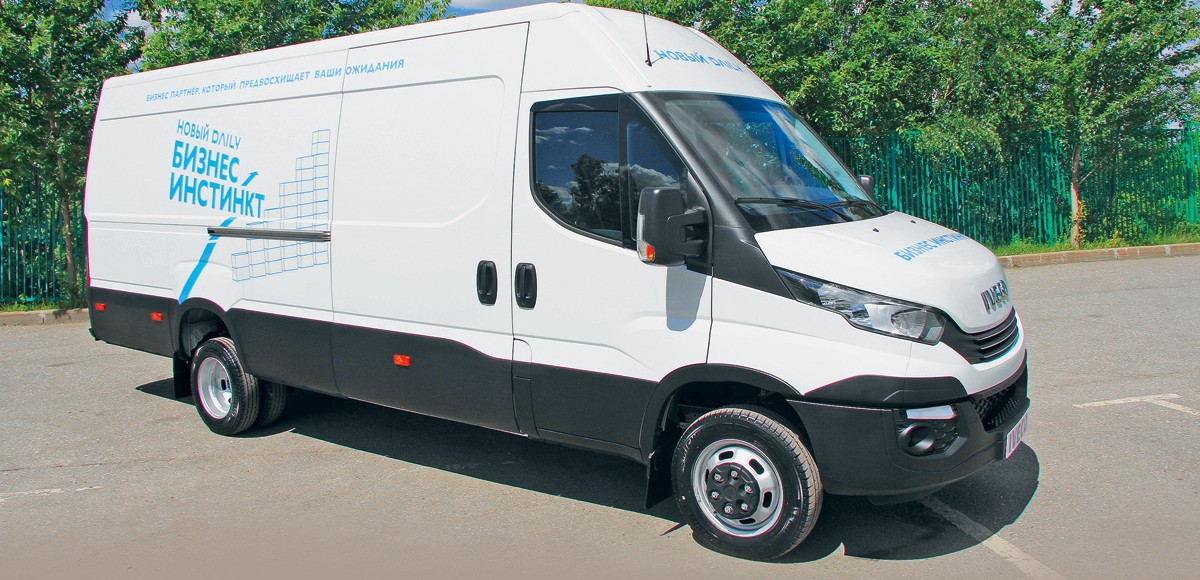van: (81, 3, 1035, 560)
